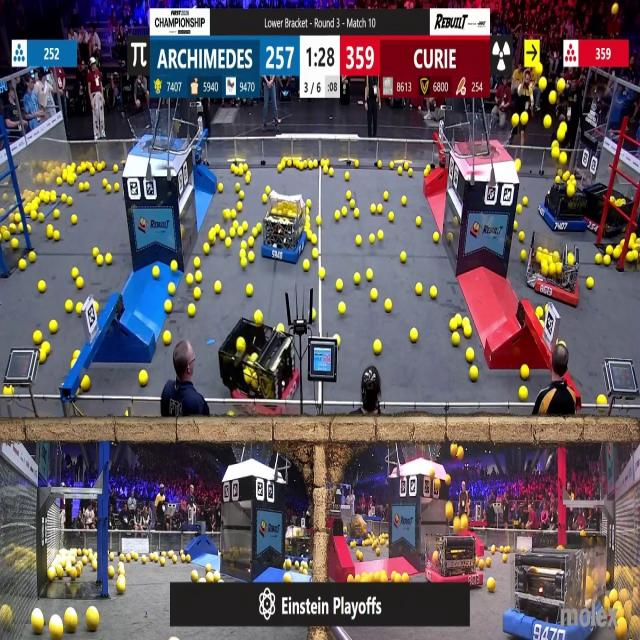ball_airborne: (558, 124, 566, 143), (446, 502, 454, 518), (558, 78, 566, 92), (453, 518, 461, 532), (543, 114, 551, 127), (538, 77, 546, 90), (521, 112, 529, 125), (513, 113, 521, 126), (552, 145, 560, 158), (451, 445, 458, 458), (457, 447, 464, 460), (550, 92, 557, 104), (534, 64, 541, 76), (611, 3, 618, 15), (560, 151, 566, 164), (447, 473, 452, 482)
ball_ground: (32, 612, 45, 636), (66, 612, 79, 635), (88, 610, 100, 632), (53, 618, 65, 640), (617, 620, 628, 639), (521, 364, 530, 379), (116, 580, 125, 595), (81, 376, 89, 392), (139, 372, 148, 386), (520, 386, 528, 400), (411, 328, 419, 342), (34, 332, 42, 346), (374, 341, 382, 355), (468, 366, 476, 380), (48, 320, 56, 333), (466, 349, 474, 362), (254, 311, 262, 324), (452, 334, 460, 347), (66, 302, 74, 314), (488, 580, 496, 592), (450, 319, 458, 331), (165, 333, 172, 346), (1, 232, 10, 242), (192, 288, 200, 299), (598, 394, 606, 405), (190, 570, 198, 581), (41, 343, 49, 354), (628, 239, 636, 250), (385, 300, 392, 312), (369, 288, 376, 300), (246, 284, 253, 296), (38, 280, 45, 292), (429, 286, 436, 298), (337, 280, 344, 292), (204, 243, 211, 255), (214, 282, 221, 294), (354, 273, 361, 285), (416, 283, 423, 295), (365, 270, 372, 282), (188, 306, 195, 318), (165, 302, 172, 314), (39, 352, 46, 364), (209, 232, 216, 244), (10, 240, 18, 250), (614, 248, 622, 258), (222, 209, 230, 219), (9, 223, 17, 233), (588, 278, 595, 289), (340, 304, 347, 315), (186, 274, 193, 285), (169, 283, 176, 294), (152, 268, 159, 279), (463, 326, 470, 337), (603, 254, 610, 265), (536, 308, 543, 319), (311, 235, 318, 246), (194, 272, 200, 284), (50, 190, 56, 202), (18, 261, 25, 271), (304, 262, 311, 272), (596, 254, 603, 264), (29, 252, 36, 262), (284, 572, 291, 582), (108, 567, 115, 577), (76, 278, 83, 288), (54, 232, 61, 242), (93, 247, 100, 257), (355, 572, 362, 582), (37, 212, 44, 222), (207, 572, 214, 582), (394, 571, 401, 581), (31, 211, 38, 221), (381, 571, 388, 581), (362, 571, 369, 581), (356, 236, 362, 247), (193, 256, 199, 267), (318, 269, 324, 280), (248, 251, 254, 262), (416, 216, 422, 227), (313, 248, 319, 259), (521, 250, 527, 261), (628, 251, 634, 262), (462, 317, 469, 326), (172, 263, 178, 273), (106, 253, 112, 263), (400, 252, 406, 262), (72, 269, 78, 279), (388, 212, 394, 222), (519, 233, 525, 243), (248, 238, 254, 248), (368, 235, 374, 245), (98, 255, 104, 265), (83, 184, 89, 194), (76, 304, 82, 314), (55, 210, 61, 220), (93, 561, 99, 571), (73, 350, 79, 360), (46, 230, 52, 240), (241, 258, 247, 268), (606, 246, 612, 256), (604, 572, 610, 582), (348, 574, 355, 582), (238, 230, 245, 238), (284, 562, 291, 570), (517, 161, 522, 172), (71, 215, 77, 224), (354, 209, 360, 218), (400, 197, 406, 206), (225, 239, 231, 248), (316, 216, 322, 225), (402, 572, 408, 581), (523, 198, 529, 207), (239, 190, 245, 199), (517, 205, 523, 214), (17, 223, 23, 232), (7, 386, 13, 395), (237, 203, 243, 212), (244, 174, 250, 183), (161, 558, 167, 567), (68, 176, 74, 185), (350, 201, 356, 210), (356, 553, 362, 562), (25, 207, 31, 216), (433, 234, 438, 244), (379, 232, 384, 242), (242, 240, 247, 250), (336, 211, 341, 221), (302, 568, 309, 575), (220, 232, 226, 240), (67, 198, 73, 206), (266, 185, 272, 193), (79, 182, 85, 190), (264, 194, 270, 202), (354, 161, 360, 169), (342, 208, 348, 216), (293, 562, 299, 570), (61, 193, 67, 201), (486, 559, 492, 567), (448, 234, 454, 242), (214, 224, 220, 232), (108, 554, 114, 562), (556, 175, 562, 183), (232, 230, 237, 239), (514, 221, 519, 230), (370, 204, 375, 213), (378, 205, 383, 214), (232, 210, 237, 219), (58, 177, 63, 186), (491, 544, 496, 553), (279, 323, 284, 332), (312, 310, 316, 321), (233, 220, 239, 227), (397, 168, 403, 175), (172, 557, 178, 564), (218, 183, 223, 191), (347, 190, 352, 198), (114, 183, 119, 191), (345, 172, 350, 180), (328, 169, 333, 177), (101, 180, 106, 188), (107, 184, 112, 192), (230, 163, 234, 173), (207, 564, 212, 572), (378, 162, 383, 170), (502, 555, 507, 563), (278, 164, 283, 172), (308, 233, 313, 241), (119, 568, 124, 576), (256, 222, 261, 230), (14, 214, 19, 222), (337, 338, 342, 346), (82, 557, 87, 565), (384, 190, 388, 199), (558, 544, 564, 550), (227, 412, 233, 418), (113, 166, 118, 173), (409, 170, 414, 177), (241, 250, 246, 257), (323, 168, 328, 175), (631, 234, 636, 241), (71, 360, 76, 367), (237, 183, 241, 191), (308, 201, 312, 209), (244, 222, 248, 230), (424, 170, 428, 178), (186, 555, 190, 563), (28, 224, 32, 232), (92, 168, 96, 176), (377, 549, 381, 557), (406, 160, 410, 168), (242, 163, 246, 171), (123, 412, 128, 418), (387, 161, 391, 168), (119, 555, 123, 562), (500, 544, 504, 551), (99, 162, 103, 168)
goal: (460, 118, 518, 158), (128, 115, 186, 152)
robot_blue: (508, 552, 583, 640), (261, 197, 306, 261), (540, 179, 586, 232), (283, 526, 311, 564), (345, 515, 372, 546)
robot_red: (220, 323, 300, 414), (527, 240, 579, 306), (429, 526, 483, 586)
